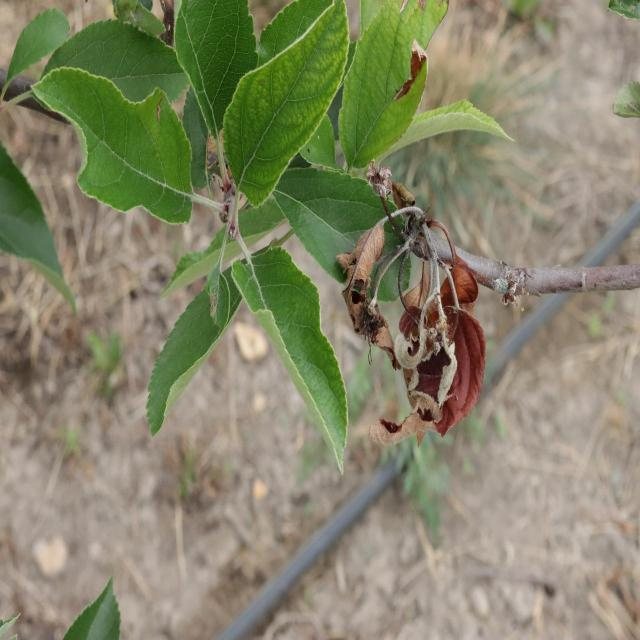-FireBlight-: (342, 212, 492, 438)
